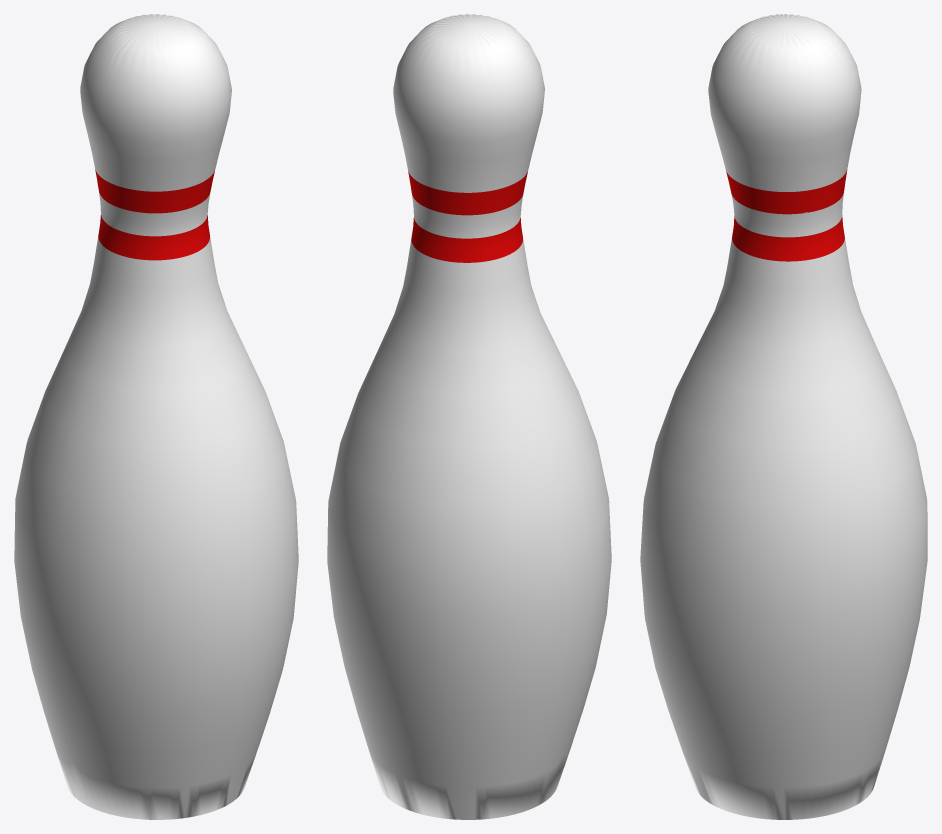
File: Basic bowling pin (1).fbx
The picture shows the model from 3 angles, left to right: view 1: azimuth 30°, elevation 25°; view 2: azimuth 150°, elevation 25°; view 3: azimuth 270°, elevation 25°; orthographic projection.
Visible parts, largest first — view 1: Basic pin; view 2: Basic pin; view 3: Basic pin.
Boxes of the visible parts, box(x1,y1,x2,y2) form: Basic pin: box(14, 14, 298, 819); Basic pin: box(327, 14, 611, 819); Basic pin: box(640, 14, 927, 819).
Size of the model in its own units: 131 by 387 by 133.
